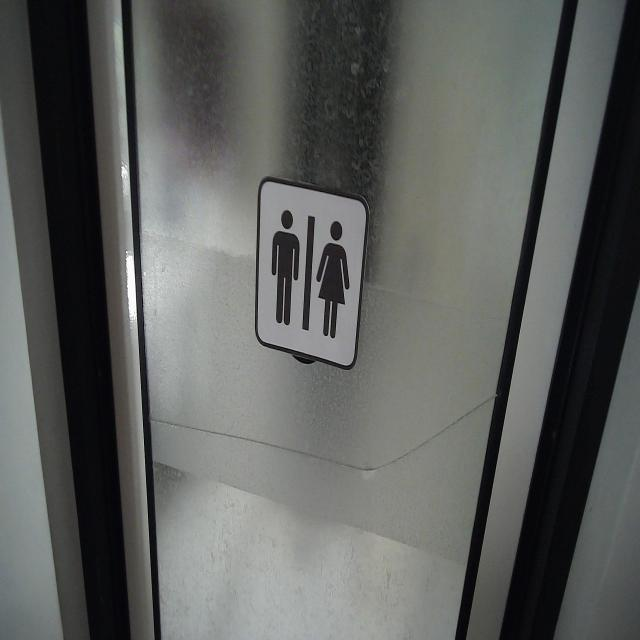restroom: (252, 173, 372, 374)
